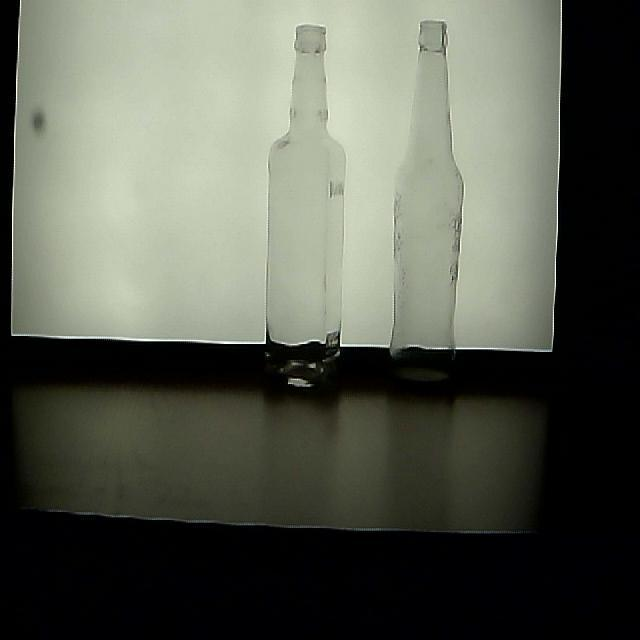Glass: (263, 22, 345, 404), (386, 20, 464, 402)
